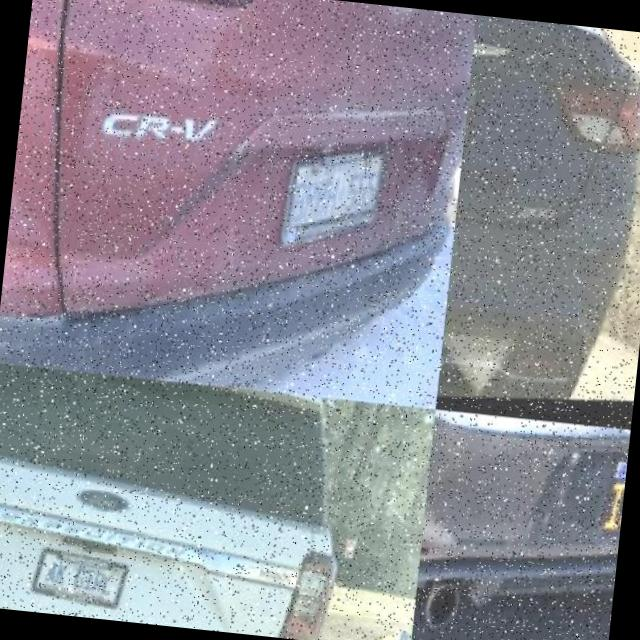LicensePlate: (279, 154, 387, 253), (28, 550, 129, 616)
